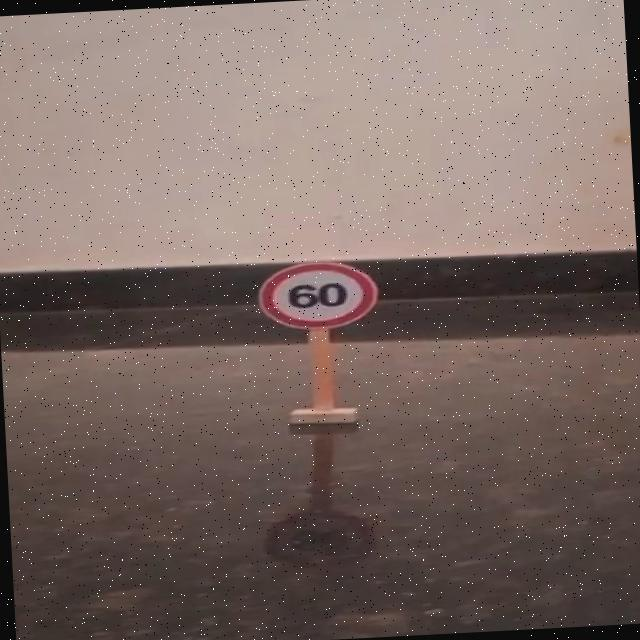Speed60: (242, 249, 390, 339)
